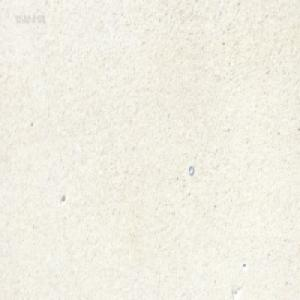Washer: (187, 165, 194, 175)
